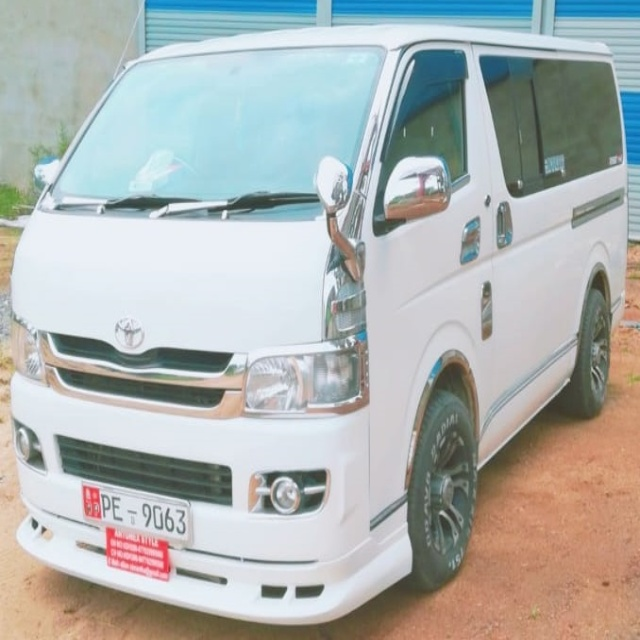Van: (8, 19, 628, 625)
